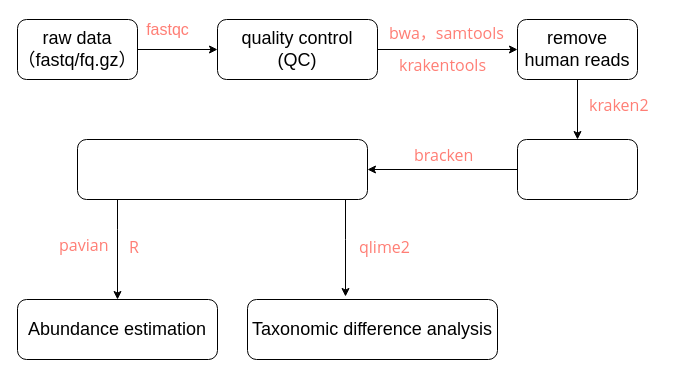
Image size: 685x377. Some labels were removed from this diagram. The centre of each missing label's shape, as x and y in pixels:
Taxonomic Classification: the point at 577,169
Taxonomic Classification correction: the point at 222,169
